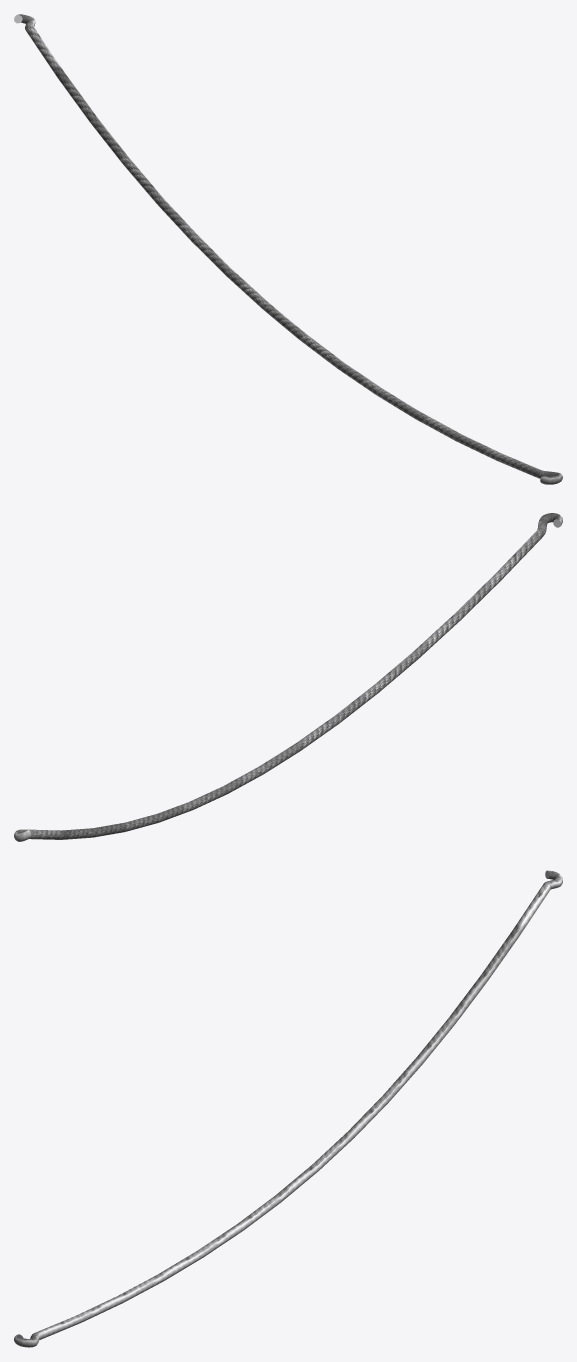
Rendered from Hangar_Metal_Rope.FBX.
The picture shows the model from 3 angles, top to bottom: view 1: azimuth 30°, elevation 25°; view 2: azimuth 150°, elevation 25°; view 3: azimuth 330°, elevation 25°; orthographic projection.
Visible parts, largest first — view 1: Hangar_Metal_Rope; view 2: Hangar_Metal_Rope; view 3: Hangar_Metal_Rope.
Boxes of the visible parts, <box> form: Hangar_Metal_Rope: <box>14,14,562,484</box>; Hangar_Metal_Rope: <box>14,513,562,841</box>; Hangar_Metal_Rope: <box>14,870,562,1347</box>.
Bounding box in the file's own units: 10.72 × 60.88 × 467.
